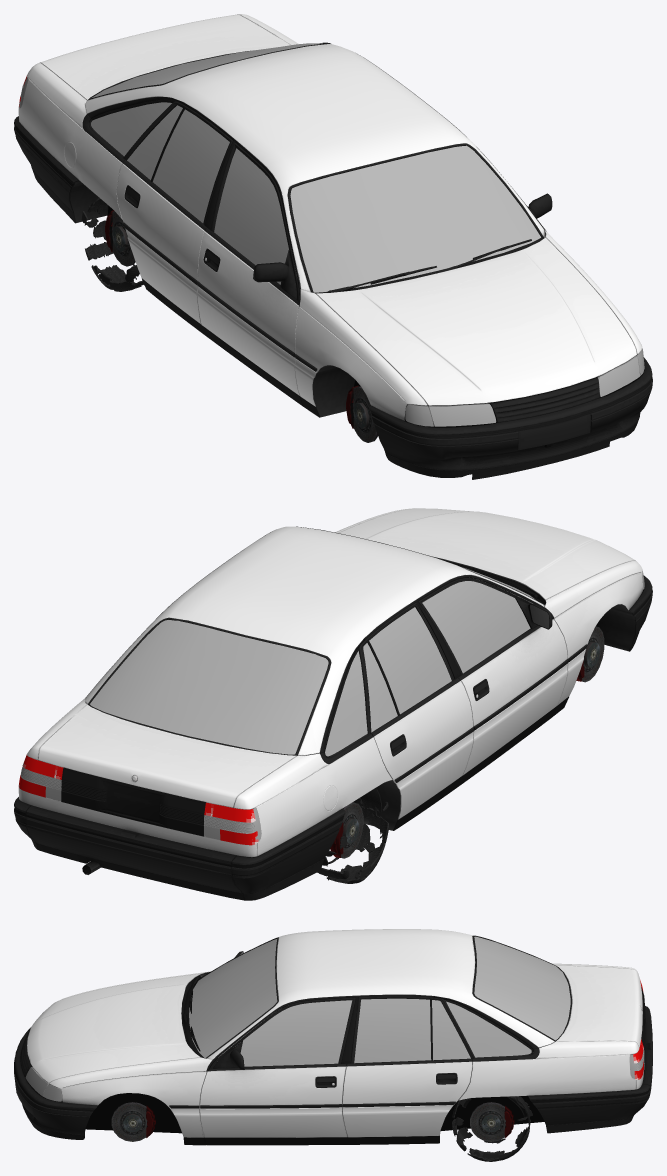
3 renders of one model, top to bottom at view 1: azimuth 30°, elevation 25°; view 2: azimuth 150°, elevation 25°; view 3: azimuth 270°, elevation 25°, orthographic. The views are drawn at different scales.
Visible parts, largest first — view 1: Body_Duco, Body_Glass, Body_Kits_00 (×3), Body_Bumpers, Body_Matte, Body_Gloss, Undercarrage, Rotor (×2), Mod_Trim; view 2: Body_Duco, Body_Glass, Body_Kits_00 (×2), Body_Bumpers, Body_Matte, Body_Gloss, Undercarrage, BrakeLights, Rotor (×2), Mod_Trim; view 3: Body_Duco, Body_Glass, Body_Kits_00 (×2), Body_Matte, Body_Bumpers, Body_Gloss, Undercarrage, Rotor (×2), Mod_Trim.
Part boxes in pixels (x1=…): Body_Duco: x1=18, y1=14, x2=642, y2=420; Body_Glass: x1=19, y1=43, x2=644, y2=426; Body_Kits_00 (×3): x1=316, y1=237, x2=636, y2=405; Body_Bumpers: x1=14, y1=116, x2=652, y2=477; Body_Matte: x1=82, y1=42, x2=609, y2=479; Body_Gloss: x1=142, y1=108, x2=526, y2=417; Undercarrage: x1=70, y1=180, x2=644, y2=427; Rotor (×2): x1=112, y1=211, x2=377, y2=442; Mod_Trim: x1=14, y1=126, x2=652, y2=438; Body_Duco: x1=18, y1=508, x2=642, y2=857; Body_Glass: x1=20, y1=567, x2=644, y2=841; Body_Kits_00 (×2): x1=339, y1=508, x2=634, y2=600; Body_Bumpers: x1=14, y1=575, x2=652, y2=900; Body_Matte: x1=85, y1=526, x2=587, y2=782; Body_Gloss: x1=61, y1=567, x2=568, y2=836; Undercarrage: x1=82, y1=560, x2=643, y2=874; BrakeLights: x1=18, y1=754, x2=258, y2=845; Rotor (×2): x1=341, y1=626, x2=604, y2=858; Mod_Trim: x1=14, y1=590, x2=651, y2=868; Body_Duco: x1=49, y1=929, x2=644, y2=1137; Body_Glass: x1=25, y1=936, x2=644, y2=1101; Body_Kits_00 (×2): x1=27, y1=974, x2=200, y2=1082; Body_Matte: x1=20, y1=935, x2=572, y2=1108; Body_Bumpers: x1=14, y1=1006, x2=652, y2=1139; Body_Gloss: x1=183, y1=977, x2=645, y2=1145; Undercarrage: x1=25, y1=1078, x2=544, y2=1139; Rotor (×2): x1=111, y1=1102, x2=505, y2=1141; Mod_Trim: x1=14, y1=1058, x2=652, y2=1111.
Bounding box in the file's own units: 1.93 × 1.36 × 4.85.
